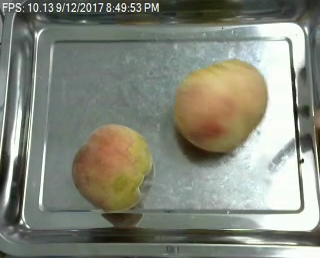Peach: (173, 59, 268, 153), (70, 122, 152, 213)
